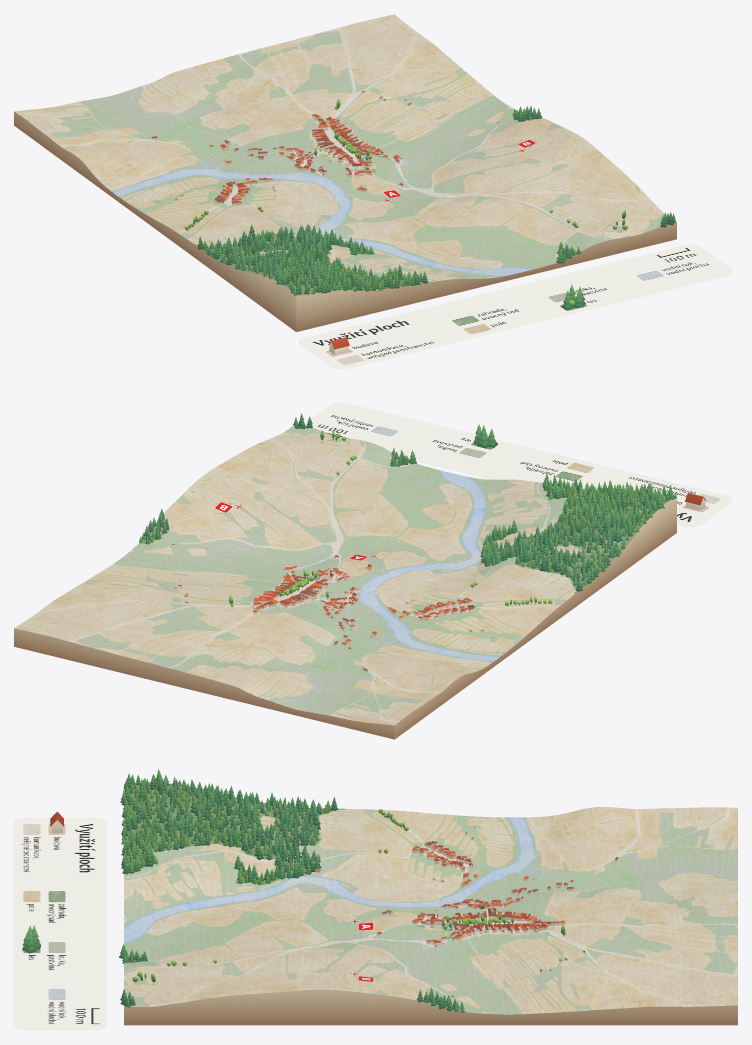
File: Frymburk_sada4_otazka1_500m.glb
3 renders of one model, top to bottom at view 1: azimuth 30°, elevation 25°; view 2: azimuth 150°, elevation 25°; view 3: azimuth 270°, elevation 25°, orthographic. The views are drawn at different scales.
Visible parts, largest first — view 1: DMR_CO, legenda_panel, stromy_CO, budovy_CO, legenda_objekty; view 2: DMR_CO, legenda_panel, stromy_CO, budovy_CO, legenda_objekty; view 3: DMR_CO, legenda_panel, stromy_CO, budovy_CO, legenda_objekty.
Part boxes in pixels (x1=…): DMR_CO: x1=14, y1=14, x2=676, y2=331; legenda_panel: x1=299, y1=244, x2=732, y2=369; stromy_CO: x1=184, y1=99, x2=675, y2=295; budovy_CO: x1=151, y1=90, x2=621, y2=231; legenda_objekty: x1=328, y1=284, x2=585, y2=354; DMR_CO: x1=14, y1=425, x2=676, y2=739; legenda_panel: x1=305, y1=402, x2=732, y2=527; stromy_CO: x1=139, y1=413, x2=676, y2=606; budovy_CO: x1=172, y1=544, x2=494, y2=672; legenda_objekty: x1=474, y1=424, x2=706, y2=510; DMR_CO: x1=124, y1=782, x2=737, y2=1025; legenda_panel: x1=14, y1=817, x2=106, y2=1030; stromy_CO: x1=119, y1=769, x2=565, y2=1012; budovy_CO: x1=315, y1=826, x2=618, y2=997; legenda_objekty: x1=22, y1=811, x2=63, y2=953.
Bounding box in the file's own units: 1490 × 180 × 2140.
10 materials, 4 textured.
